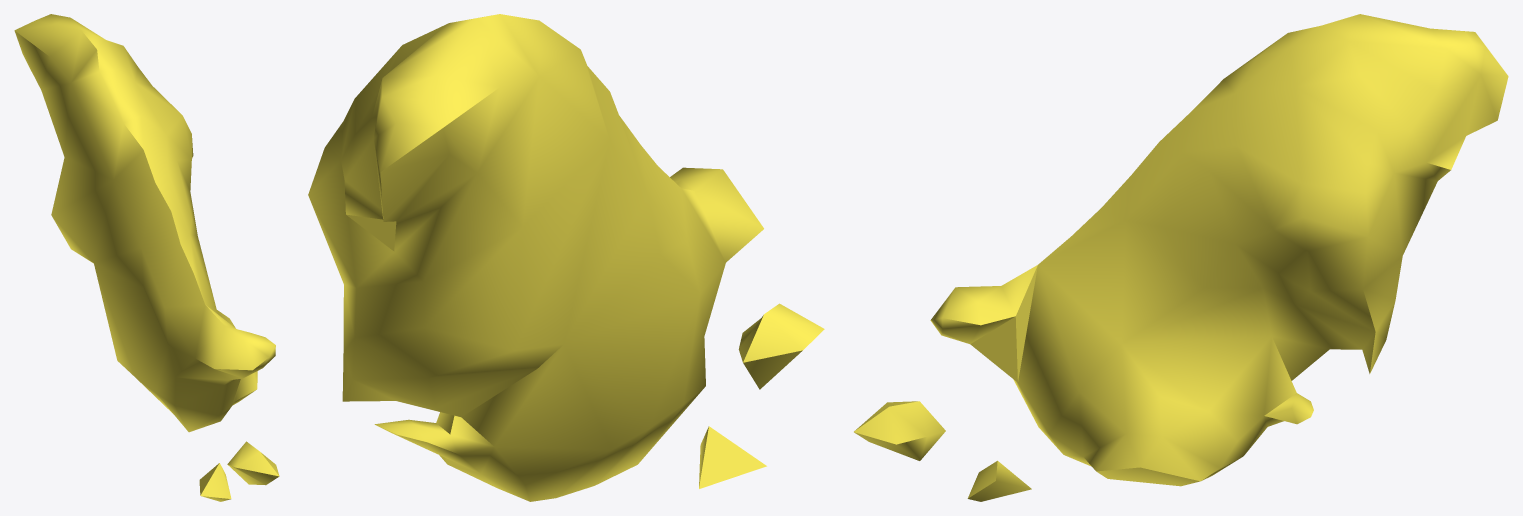
File: spl-345.glb
3 views of the same model, side by side, from view 1: azimuth 30°, elevation 25°; view 2: azimuth 150°, elevation 25°; view 3: azimuth 270°, elevation 25° (orthographic). The views are drawn at different scales.
Parts seen in each view (by area): view 1: spl-345; view 2: spl-345; view 3: spl-345.
Part boxes in pixels (x1,y1,x2,y2): spl-345: [14, 14, 279, 501]; spl-345: [308, 14, 824, 501]; spl-345: [854, 14, 1508, 501].
Bounding box in the file's own units: 2.95 × 8.57 × 10.39.
